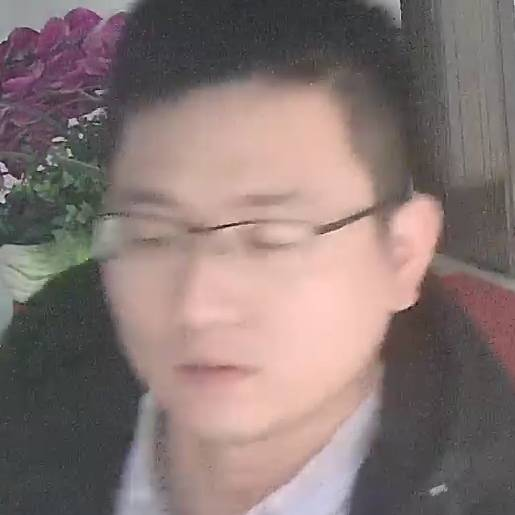gg: (81, 32, 478, 429)
